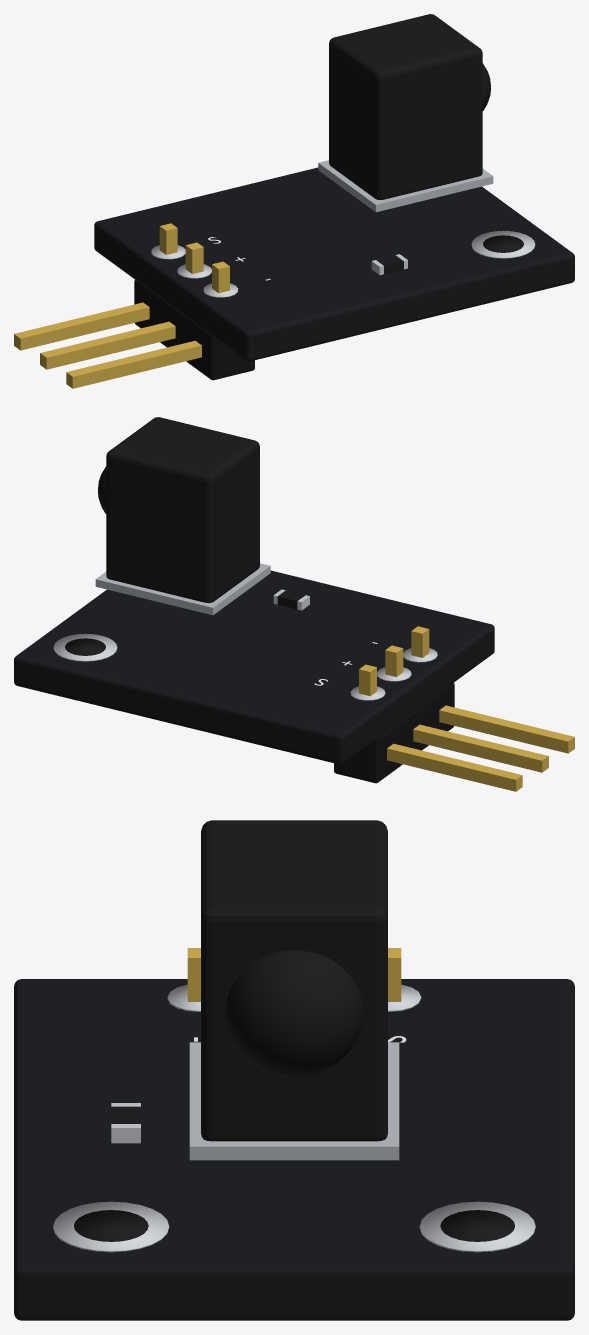
Rendered from ir-receiver.glb.
3 renders of one model, top to bottom at view 1: azimuth 30°, elevation 25°; view 2: azimuth 150°, elevation 25°; view 3: azimuth 270°, elevation 25°, orthographic. The views are drawn at different scales.
Visible parts, largest first — view 1: pcb.010, part.044, header.010, pin_h.030, pin_h.031, pin_h.032, part.046, hole_ring.021, hole.021, pin_v.031, pin_v.030, pin_v.032; view 2: pcb.010, part.044, header.010, pin_h.030, pin_h.031, pin_h.032, part.046, hole_ring.020, hole.020, pin_v.031, pin_v.032, pin_v.030; view 3: pcb.010, part.044, part.045, part.046, hole_ring.020, hole_ring.021, hole.020, hole.021, pin_v.030, pin_v.032.
Boxes of the visible parts, x1=… form: pcb.010: x1=94, y1=167, x2=574, y2=361; part.044: x1=329, y1=14, x2=482, y2=199; header.010: x1=134, y1=280, x2=254, y2=380; pin_h.030: x1=14, y1=302, x2=149, y2=350; pin_h.031: x1=40, y1=321, x2=175, y2=369; pin_h.032: x1=66, y1=340, x2=201, y2=388; part.046: x1=318, y1=160, x2=493, y2=212; hole_ring.021: x1=471, y1=230, x2=535, y2=258; hole.021: x1=483, y1=235, x2=523, y2=252; pin_v.031: x1=185, y1=242, x2=203, y2=273; pin_v.030: x1=159, y1=223, x2=177, y2=254; pin_v.032: x1=212, y1=261, x2=229, y2=293; pcb.010: x1=14, y1=570, x2=494, y2=764; part.044: x1=106, y1=417, x2=259, y2=602; header.010: x1=334, y1=683, x2=454, y2=783; pin_h.030: x1=387, y1=743, x2=522, y2=791; pin_h.031: x1=413, y1=724, x2=548, y2=772; pin_h.032: x1=439, y1=705, x2=574, y2=753; part.046: x1=95, y1=563, x2=270, y2=615; hole_ring.020: x1=53, y1=633, x2=117, y2=661; hole.020: x1=65, y1=638, x2=105, y2=655; pin_v.031: x1=385, y1=645, x2=403, y2=676; pin_v.032: x1=411, y1=626, x2=429, y2=657; pin_v.030: x1=359, y1=664, x2=376, y2=696; pcb.010: x1=14, y1=979, x2=574, y2=1320; part.044: x1=201, y1=820, x2=387, y2=1141; part.045: x1=225, y1=950, x2=363, y2=1077; part.046: x1=189, y1=1042, x2=399, y2=1160; hole_ring.020: x1=419, y1=1201, x2=535, y2=1252; hole_ring.021: x1=53, y1=1201, x2=169, y2=1252; hole.020: x1=440, y1=1210, x2=514, y2=1241; hole.021: x1=74, y1=1210, x2=148, y2=1241; pin_v.030: x1=388, y1=948, x2=401, y2=1001; pin_v.032: x1=187, y1=948, x2=200, y2=1001.
Bounding box in the file's own units: 0.0256 × 0.0136 × 0.015.
